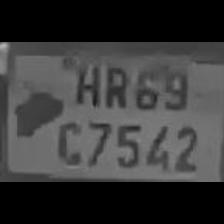2: (169, 119, 199, 173)
4: (142, 118, 172, 172)
5: (110, 116, 142, 168)
6: (128, 61, 160, 111)
7: (82, 115, 110, 169)
9: (158, 62, 190, 110)
C: (53, 112, 83, 166)
H: (68, 57, 104, 106)
R: (100, 60, 130, 108)
